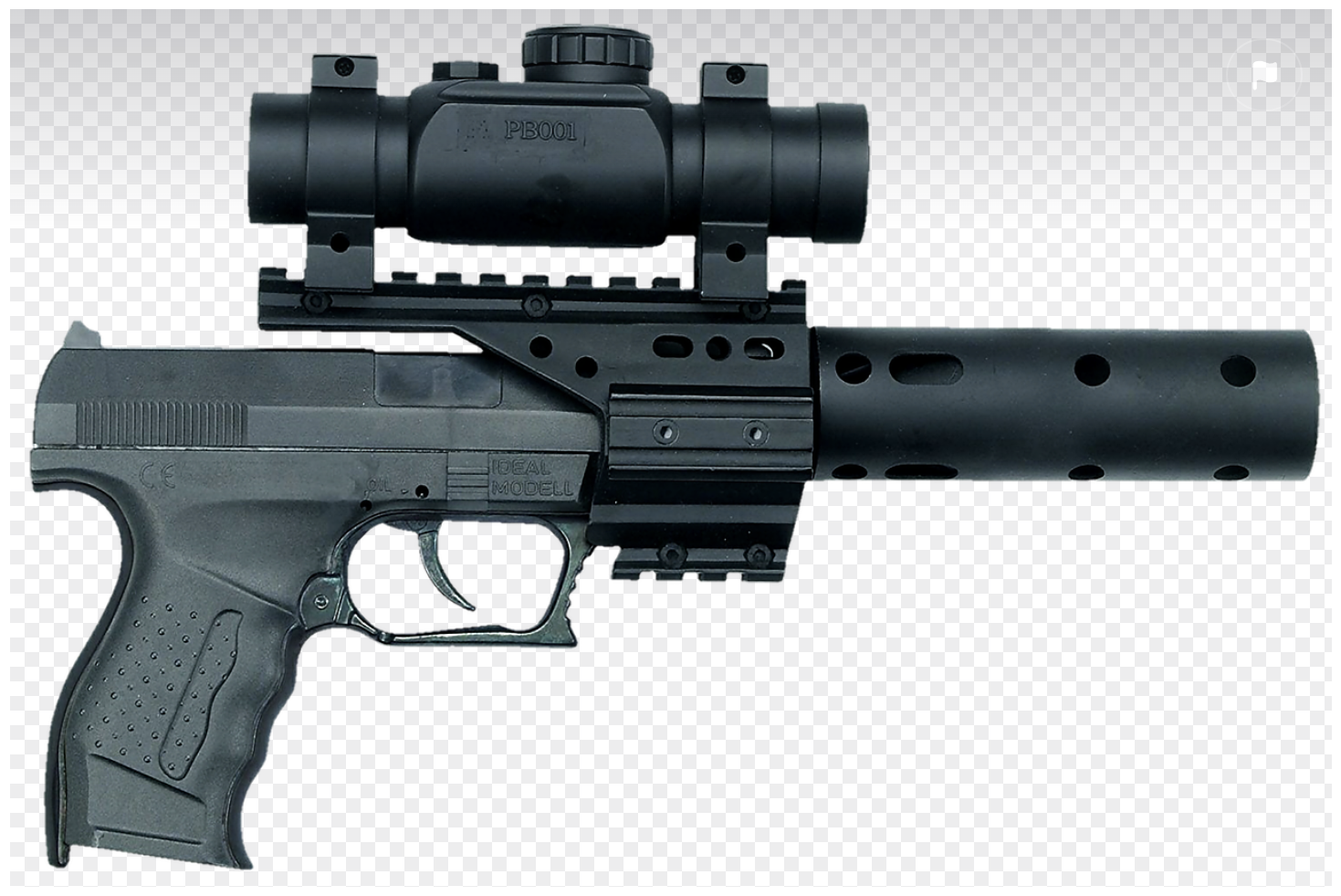gun_034.png: (15, 21, 1320, 885)
